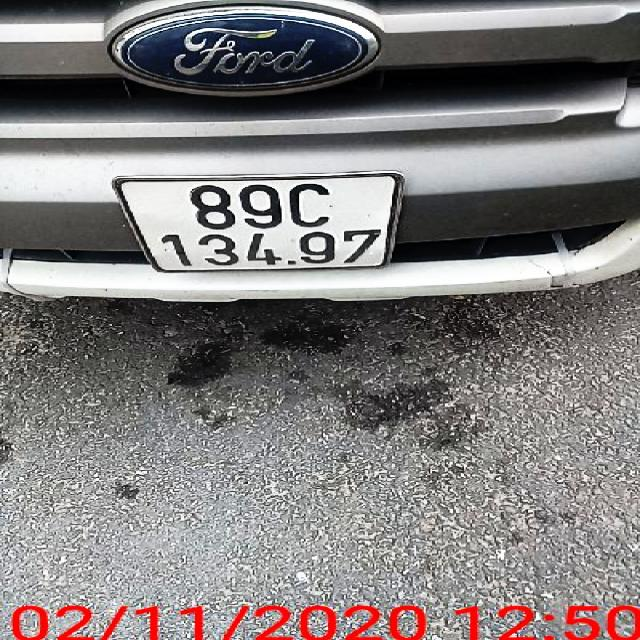license_plate: (116, 177, 406, 273)
